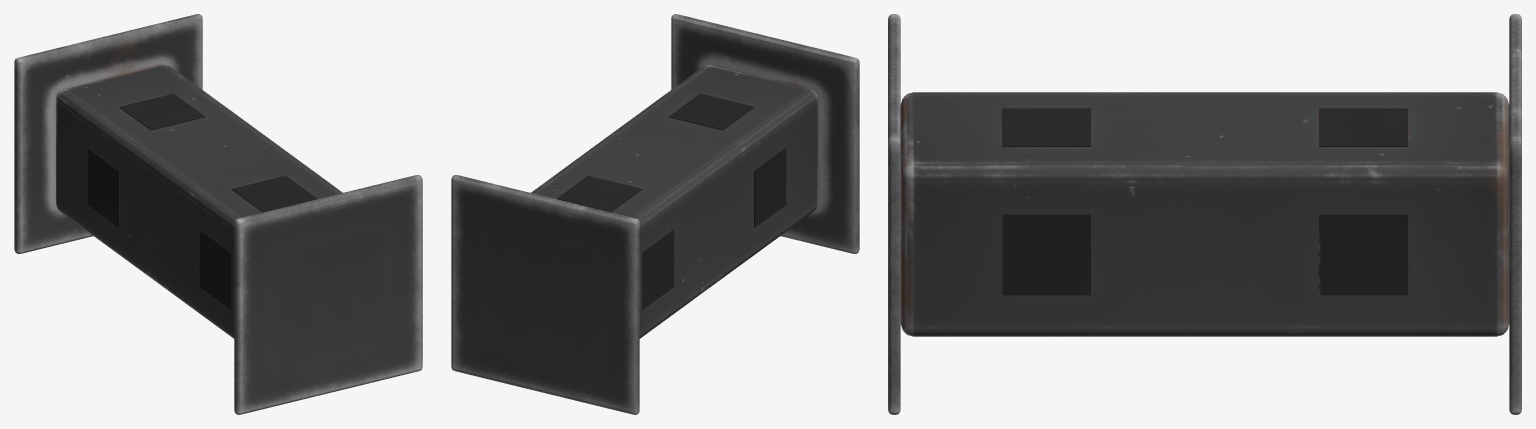
File: SM_PartBeam2.glb
3 views of the same model, side by side, from view 1: azimuth 30°, elevation 25°; view 2: azimuth 150°, elevation 25°; view 3: azimuth 270°, elevation 25° (orthographic). The views are drawn at different scales.
Parts seen in each view (by area): view 1: SM_PartBeam2; view 2: SM_PartBeam2; view 3: SM_PartBeam2.
Boxes of the visible parts, left/top/right/bottom form: SM_PartBeam2: left=14, top=14, right=422, bottom=414; SM_PartBeam2: left=451, top=14, right=859, bottom=414; SM_PartBeam2: left=888, top=14, right=1521, bottom=414.
Size of the model in its own units: 0.48 by 0.48 by 1.
Materials: 2 (2 with a texture image).
